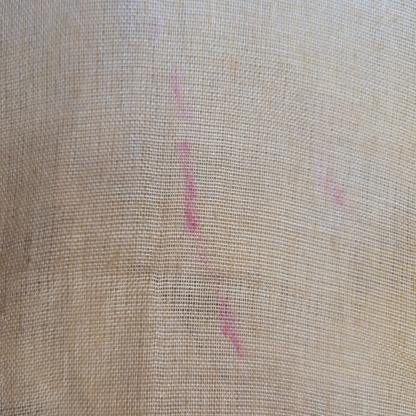spot: (166, 42, 203, 235), (210, 267, 247, 365), (320, 165, 348, 220)
